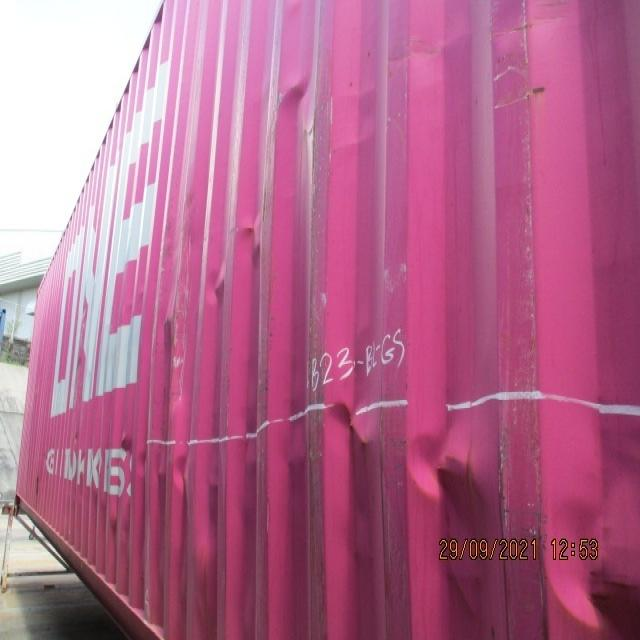dent: (104, 422, 232, 640), (323, 388, 508, 533), (153, 197, 269, 374), (540, 465, 640, 639), (274, 78, 320, 119)
